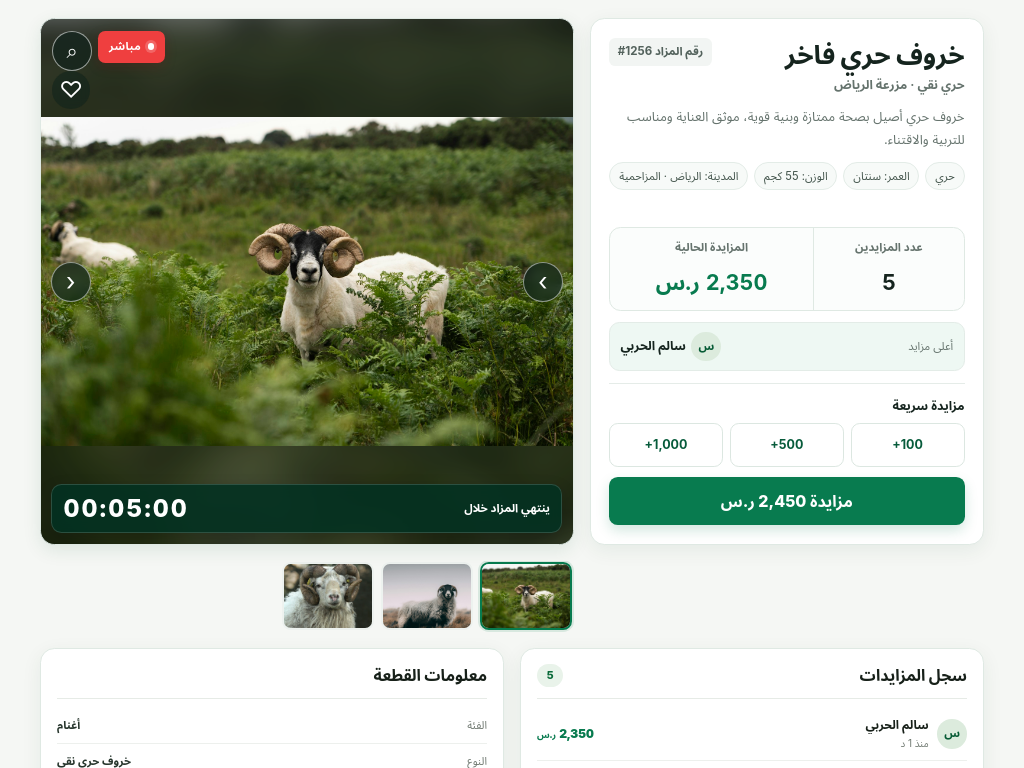
Scenario: live auction room › shows the refined rapid duplicate feedback in Arabic
Step 1. Click the button "+100" → (908, 445), box [850,423,965,467]
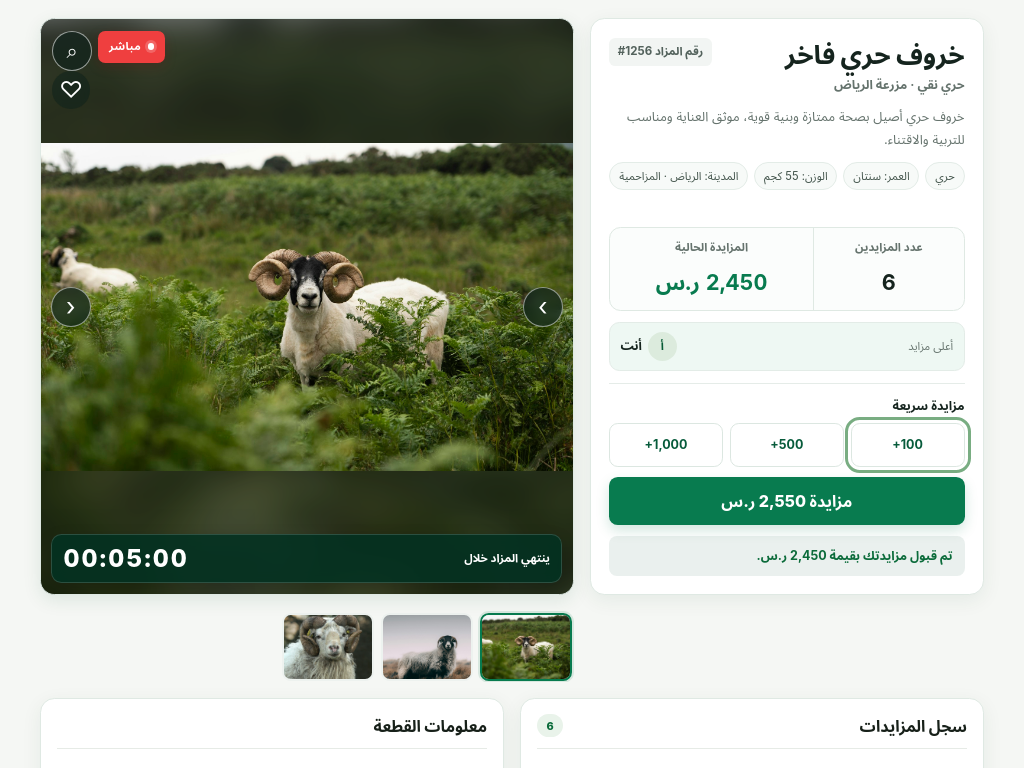
Step 2. Click the button "+500" → (787, 445), box [730,423,844,467]
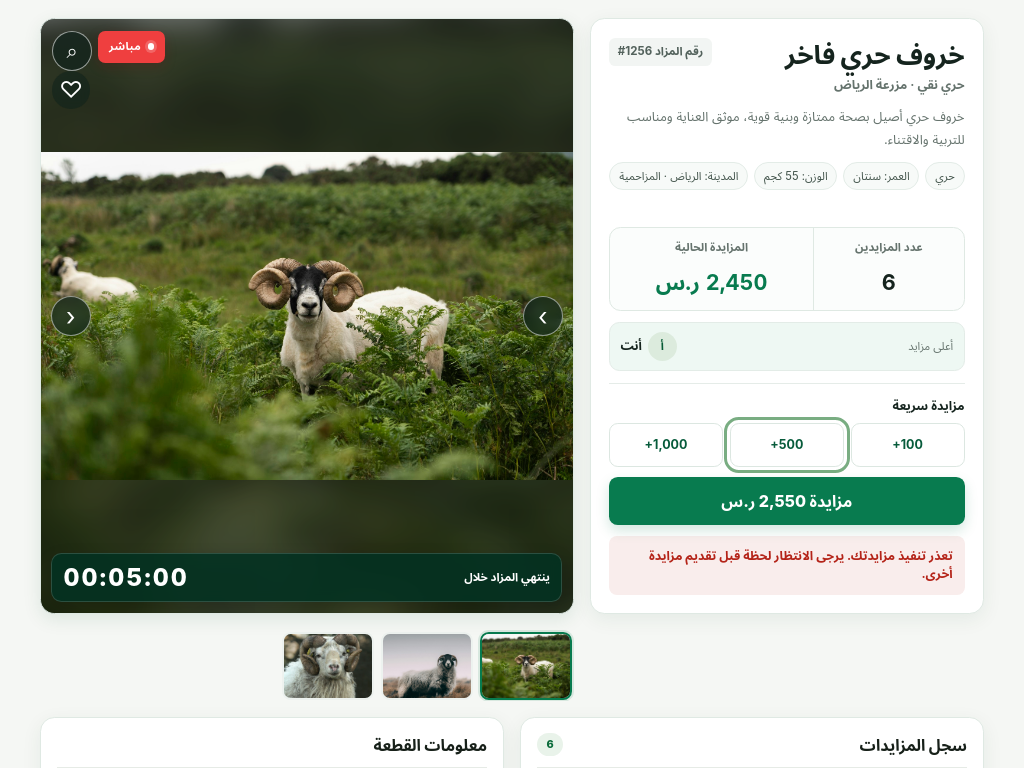
Expected: the message shows "يرجى الانتظار لحظة قبل تقديم مزايدة أخرى.", [649,548,953,581]
